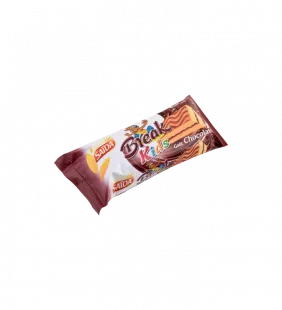BREAK KIDS: (45, 85, 235, 220)
